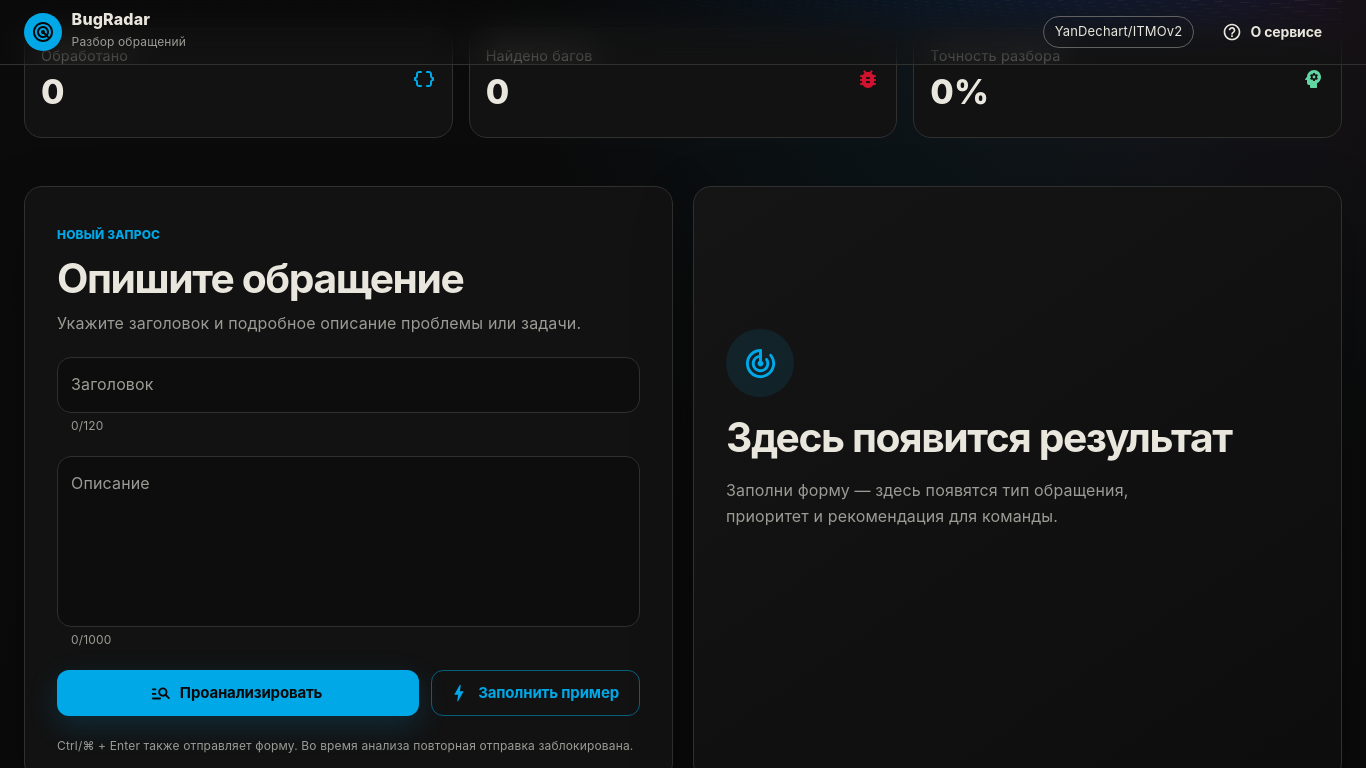
Scenario: BugRadar › проходит основной сценарий от ввода до видимого результата
(page scrolled)
In the field labelled "Заголовок": (348, 385) [57,357,640,413], type "Авторизация принимает неверный пароль"
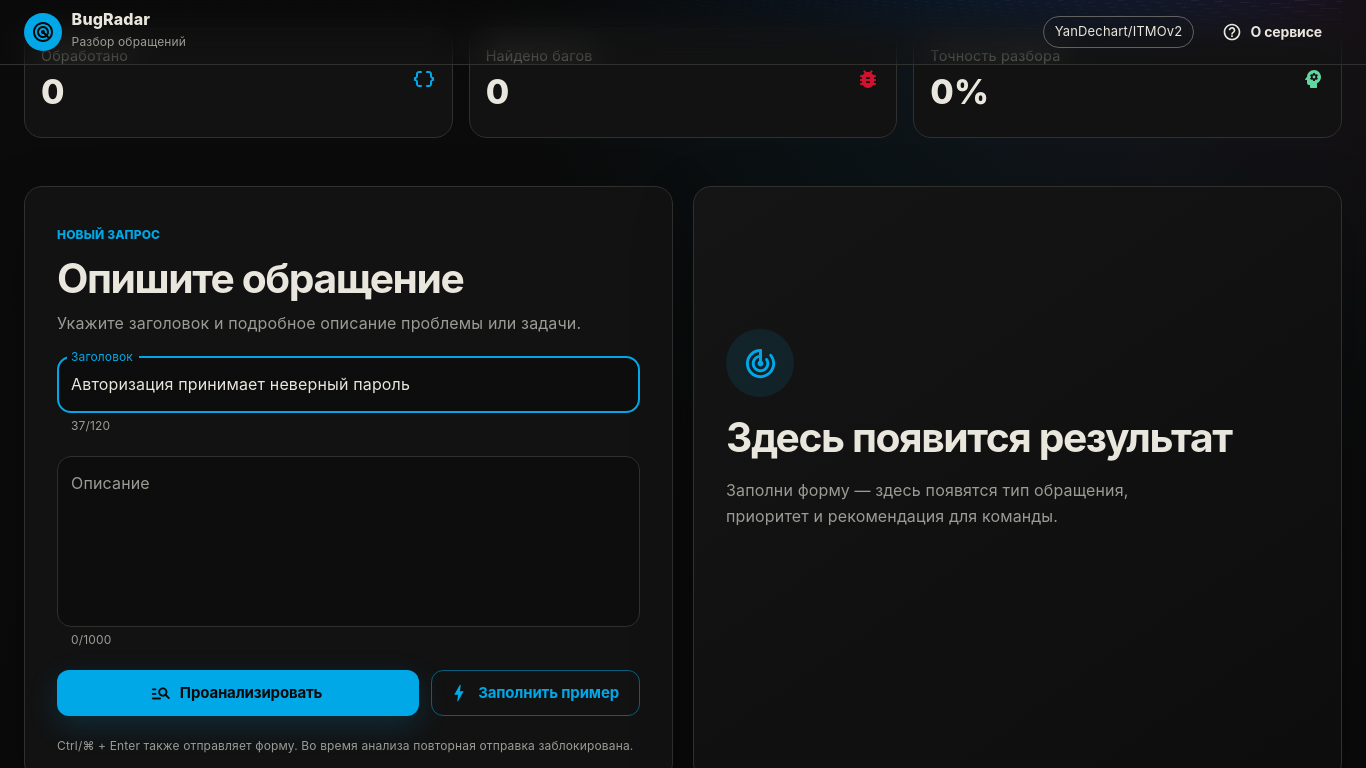
In the text box labelled "Описание": (348, 541) [71,472,626,610], type "После ввода существующего логина и неправильного пароля пользователь всё равно попадает в личный кабинет."
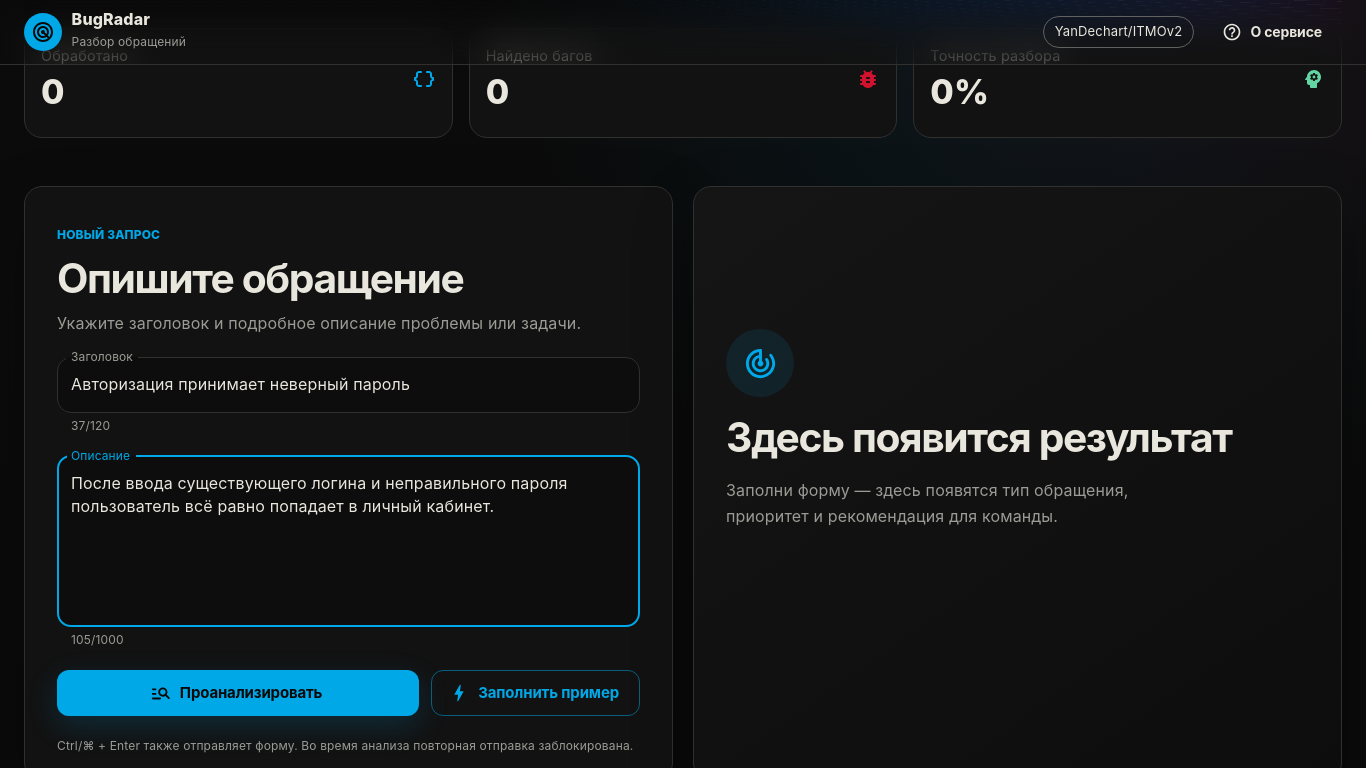
Click the button "Проанализировать": (238, 693) [57,670,419,716]
(page scrolled)
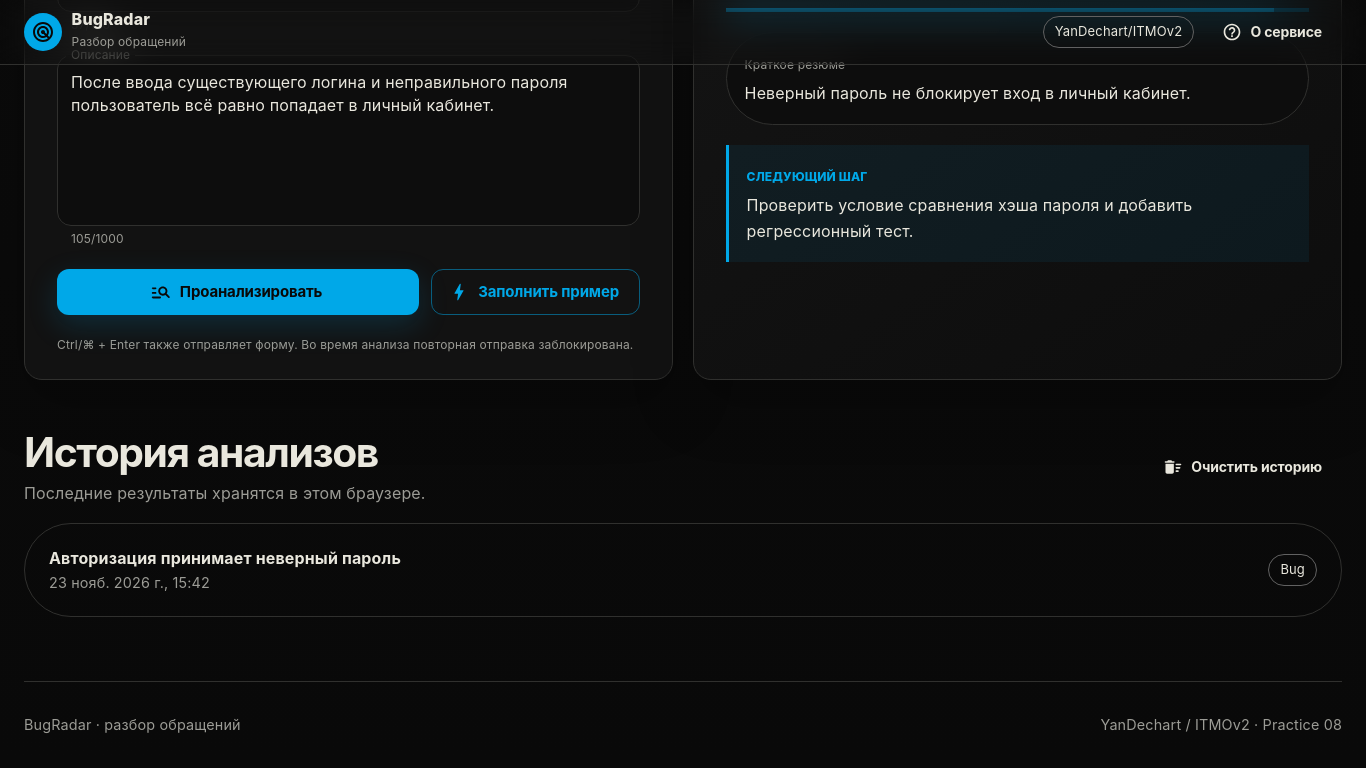
Expected: the text "Проверить условие сравнения хэша пароля и добавить регрессионный тест." is shown, [747,195,1192,241]
Expected: the text "Авторизация принимает неверный пароль" is shown, [49,548,401,568]
